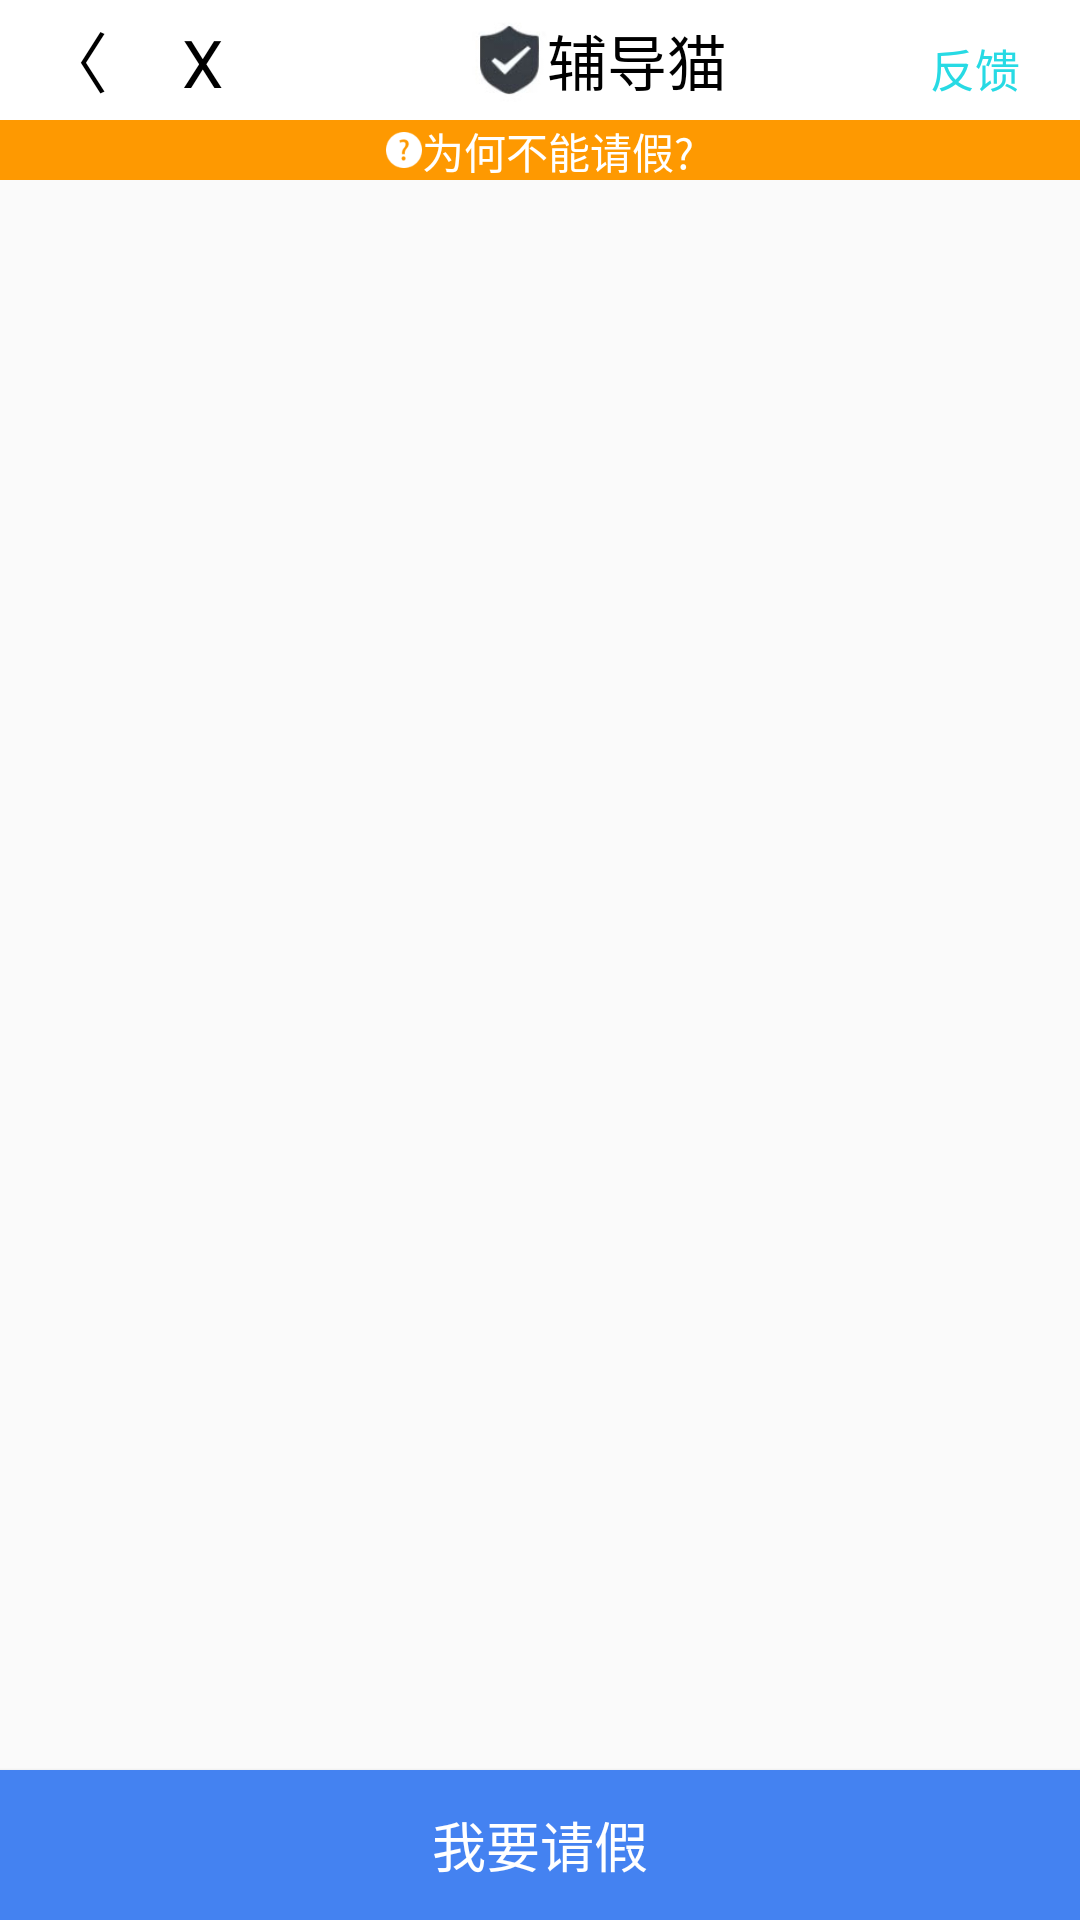

Named icons in this screenshot (1080w x 1920h) and their bounding boxes, (x1=x1, y1=y1, x2=x2, y2=y2):
what: (x1=386, y1=132, x2=422, y2=168)
